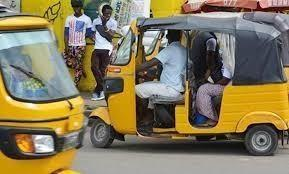keke: (85, 11, 289, 157), (0, 6, 88, 172)
